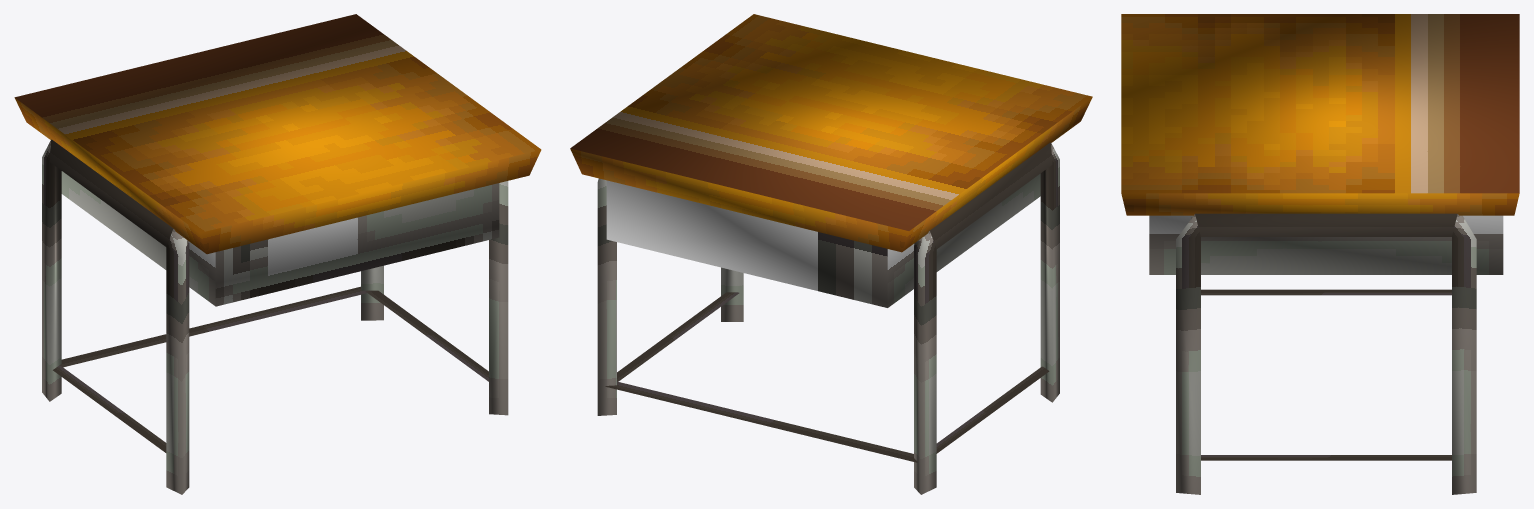
3 renders of one model, left to right at view 1: azimuth 30°, elevation 25°; view 2: azimuth 150°, elevation 25°; view 3: azimuth 270°, elevation 25°, orthographic. The views are drawn at different scales.
Parts seen in each view (by area): view 1: 3456IMSL01_05; view 2: 3456IMSL01_05; view 3: 3456IMSL01_05.
Boxes of the visible parts, x1=… form: 3456IMSL01_05: x1=14, y1=14, x2=541, y2=494; 3456IMSL01_05: x1=570, y1=14, x2=1092, y2=494; 3456IMSL01_05: x1=1121, y1=14, x2=1519, y2=494.
Bounding box in the file's own units: 0.9502 × 0.75 × 0.8918.
Materials: 2 (2 with a texture image).
